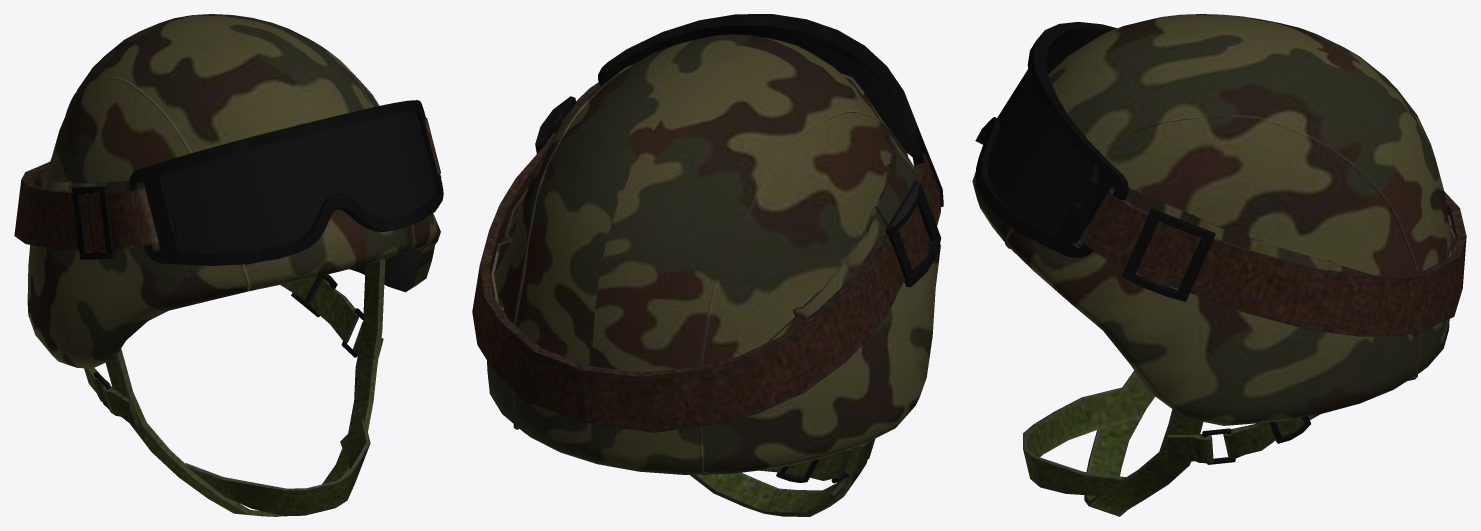
Rendered from helmet2.glb.
3 renders of one model, left to right at view 1: azimuth 30°, elevation 25°; view 2: azimuth 150°, elevation 25°; view 3: azimuth 270°, elevation 25°, orthographic. The views are drawn at different scales.
Parts seen in each view (by area): view 1: Sphere.001, Sphere; view 2: Sphere.001, Sphere; view 3: Sphere.001, Sphere.
Boxes of the visible parts, x1,y1,x2,y2 form: Sphere.001: (27, 14, 440, 368); Sphere: (14, 100, 443, 516); Sphere.001: (487, 34, 940, 475); Sphere: (472, 14, 943, 516); Sphere.001: (972, 14, 1455, 425); Sphere: (975, 22, 1466, 516).
Bounding box in the file's own units: 0.2503 × 0.3027 × 0.2861.
Materials: 2 (2 with a texture image).
